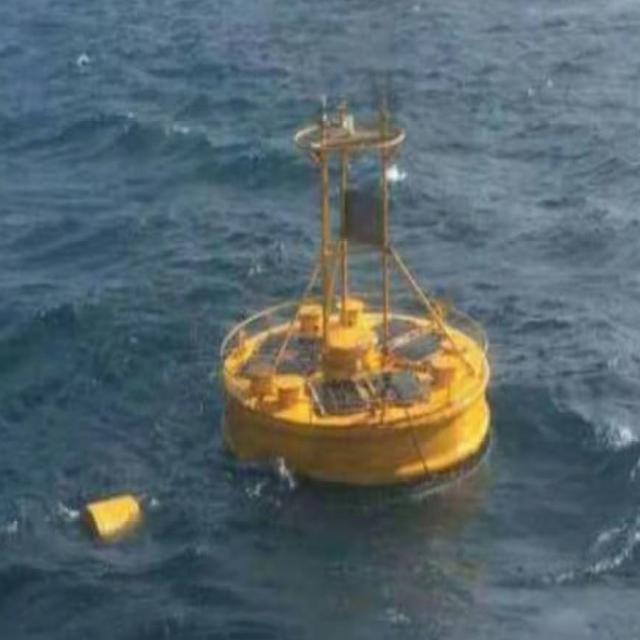buoy: (214, 88, 494, 478)
